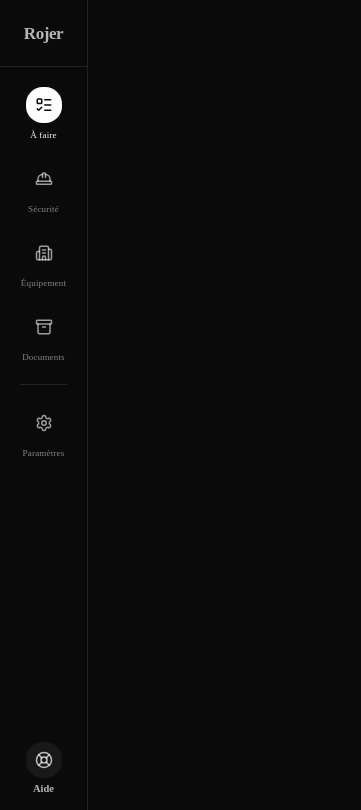
it: AppSidebar — repli du panneau › replié à l'arrivée ; une entrée de rail l'ouvre sans naviguer, un second clic le referme
Click the button "Sécurité" at (44, 188), box [8, 153, 79, 223]
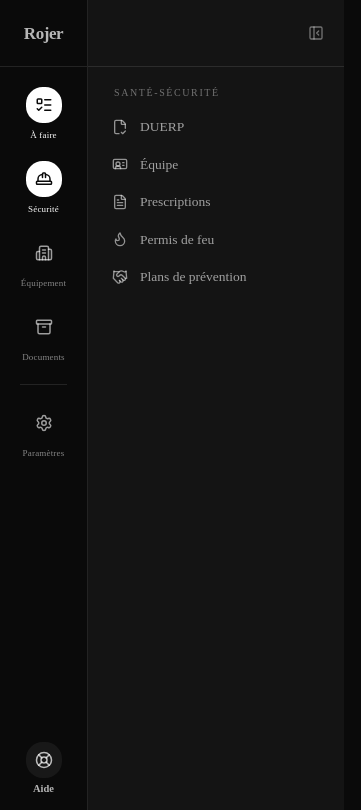
Expected: the button "Sécurité" is expanded
Click the button "Sécurité" at (44, 188), box [8, 153, 79, 223]
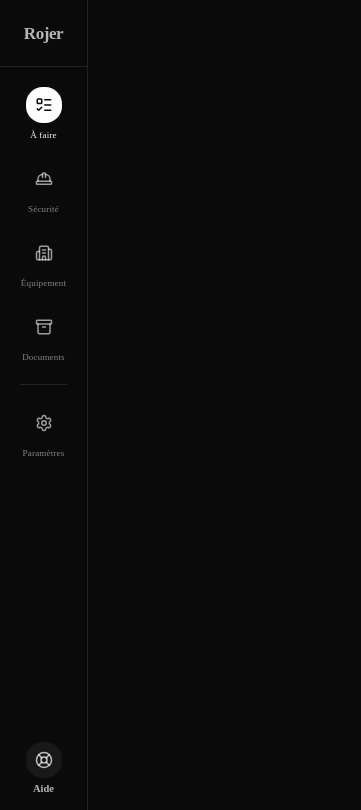
Expected: the button "Sécurité" is collapsed, [8, 153, 79, 223]
